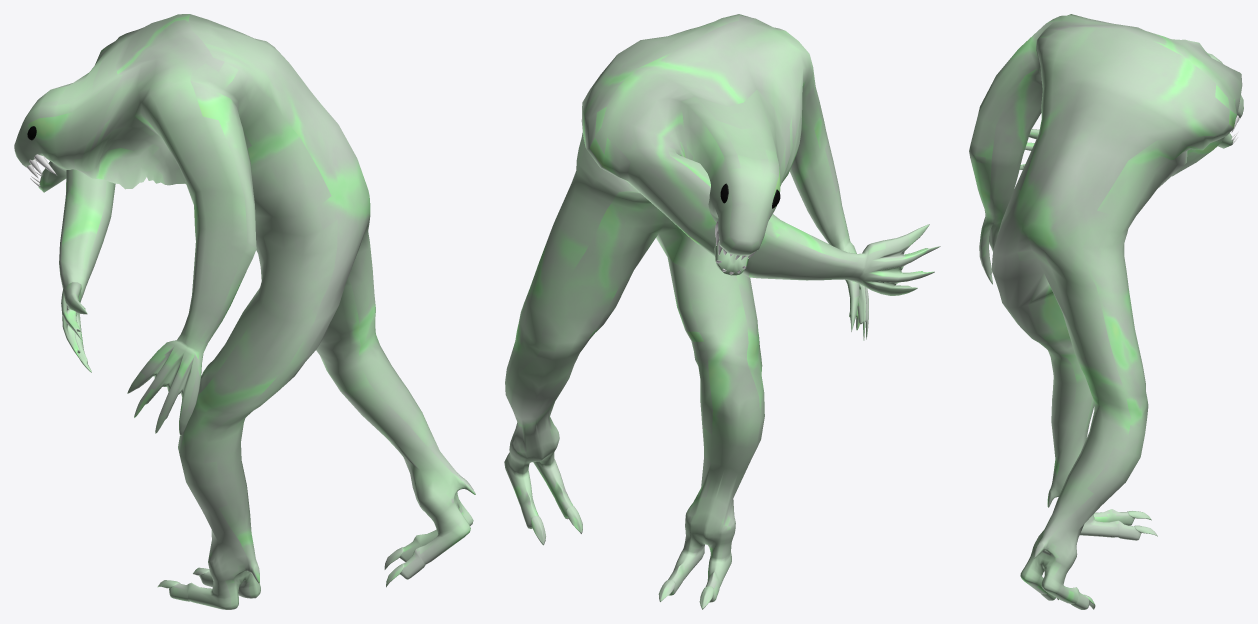
Rendered from Berserkeraranar.0040.obj.
3 renders of one model, left to right at view 1: azimuth 30°, elevation 25°; view 2: azimuth 150°, elevation 25°; view 3: azimuth 270°, elevation 25°, orthographic. The views are drawn at different scales.
Parts seen in each view (by area): view 1: polySurface27; view 2: polySurface27; view 3: polySurface27.
Boxes of the visible parts, box(x1,y1,x2,y2) form: polySurface27: box(14, 14, 475, 609); polySurface27: box(504, 14, 940, 609); polySurface27: box(969, 14, 1243, 609).
Size of the model in its own units: 15.92 by 20.91 by 10.31.
Materials: 1 (1 with a texture image).
